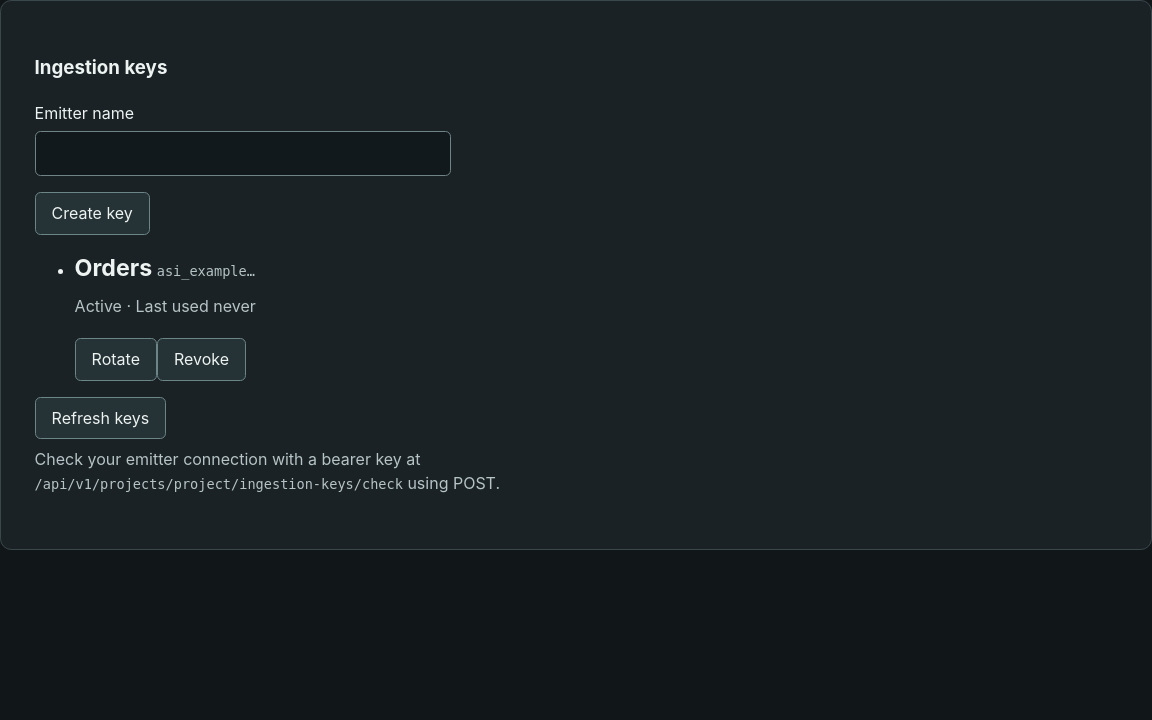
requires confirmation before revocation and keeps analyst metadata read-only
Expected: the text "Orders" is shown, [75,254,152,282]
Click the button "Revoke": (202, 359) [157,338,246,380]
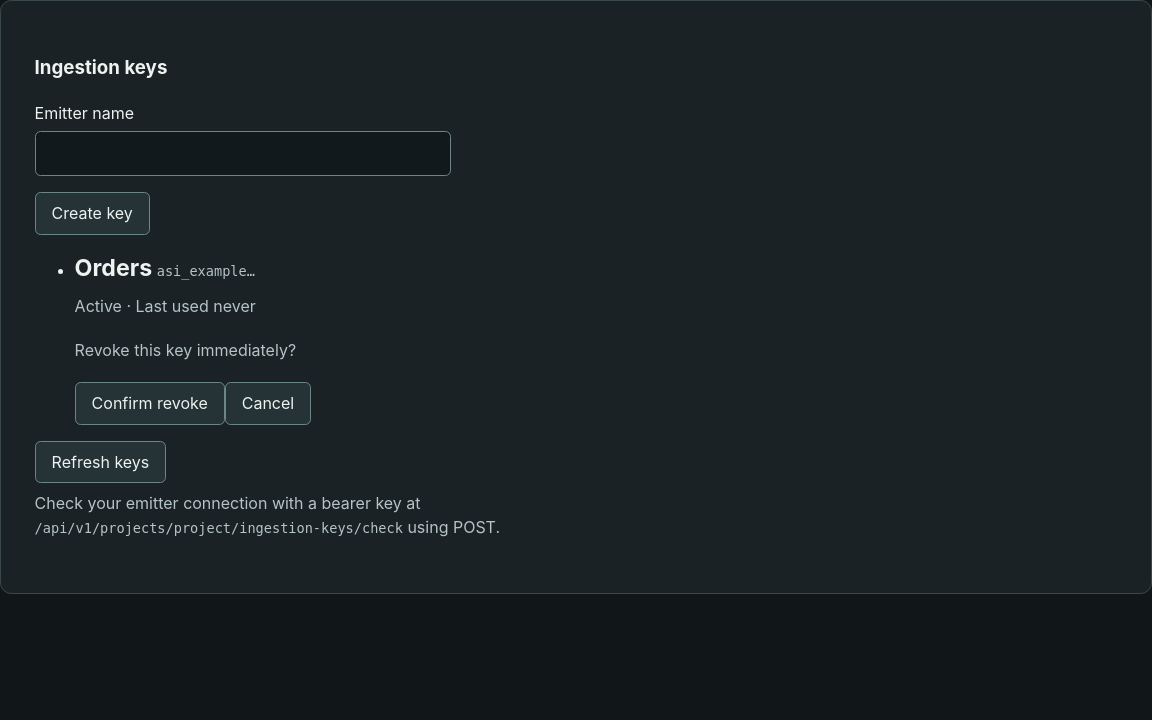
Click the button "Confirm revoke": (150, 403) [75,382,225,424]
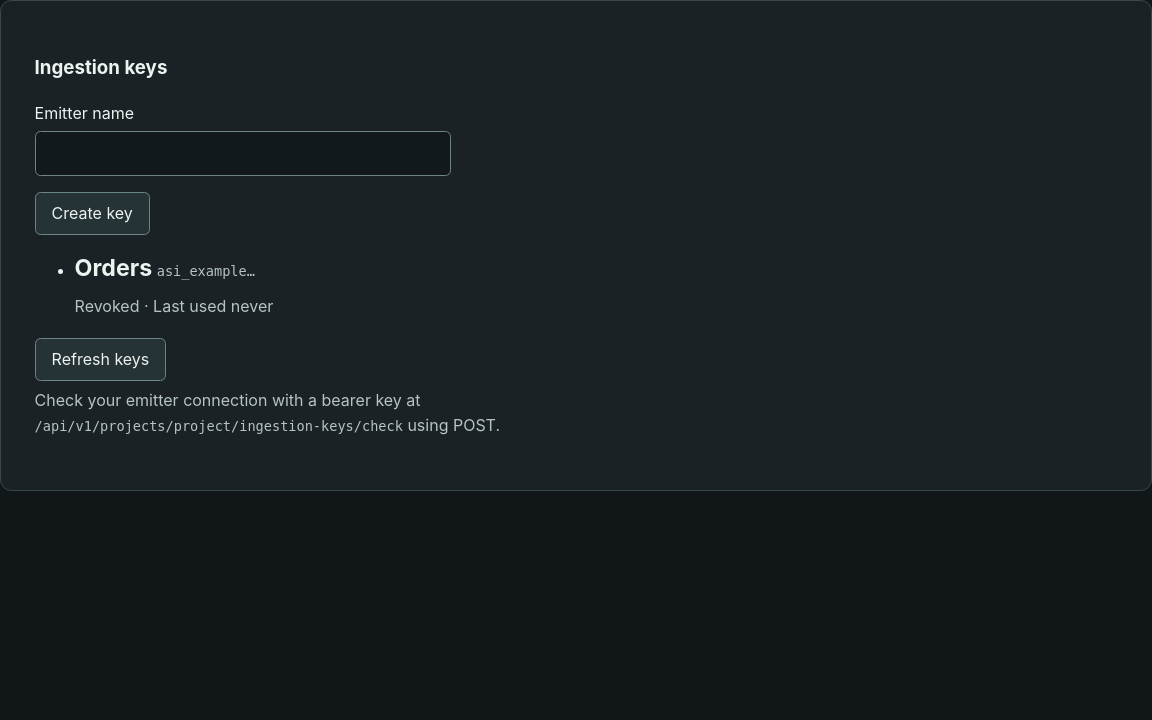
Result: the text "Revoked · Last used never" is shown at [75,296,273,316]
